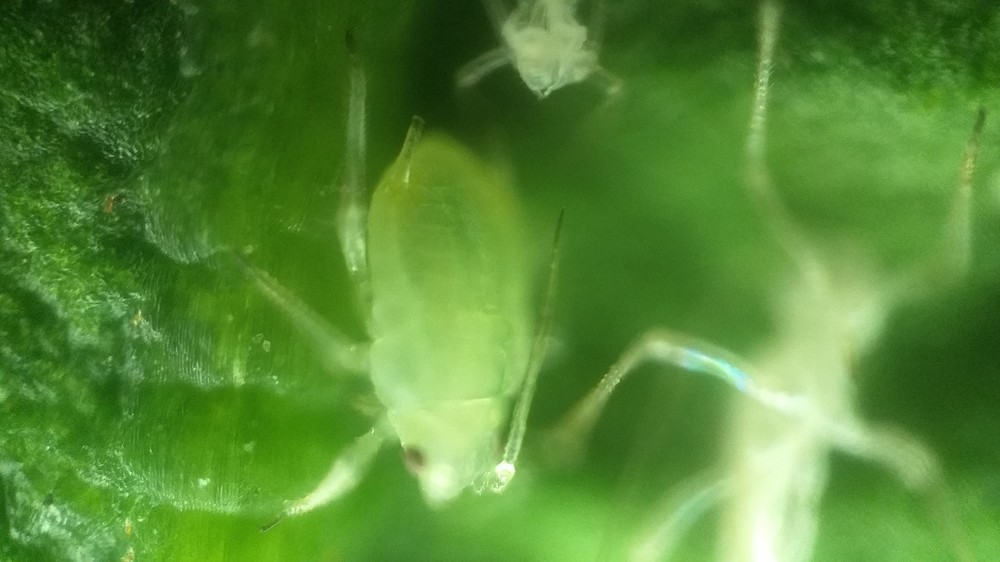Pulgon: (240, 58, 638, 554)
